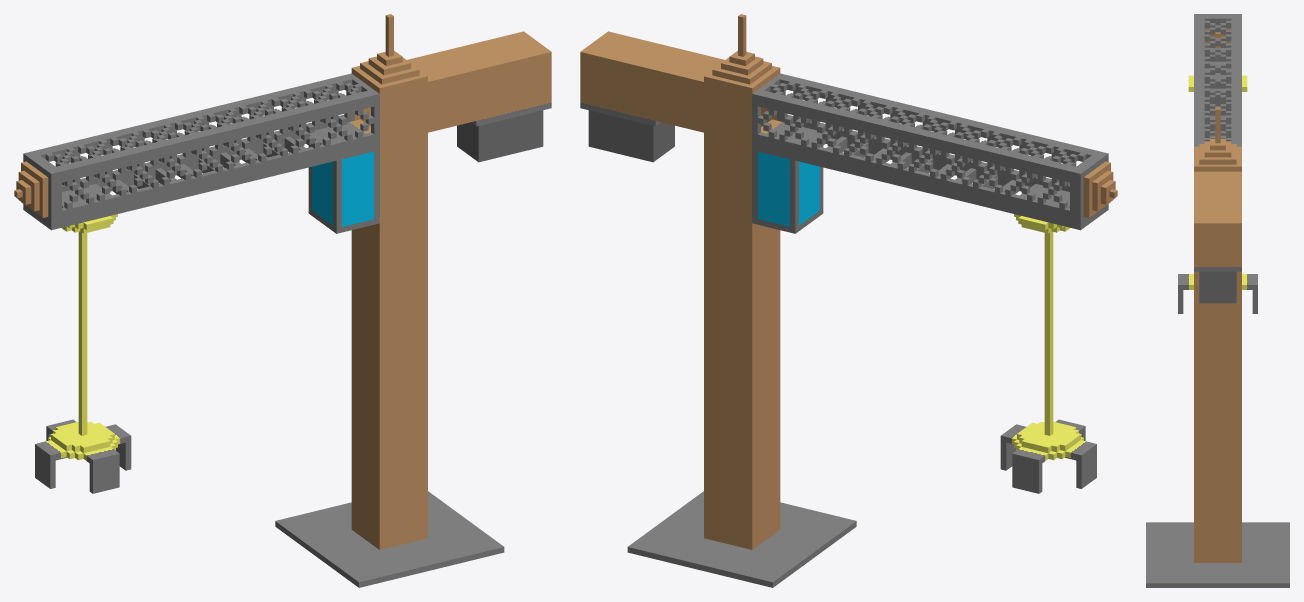
Rendered from Crane2.dae.
The picture shows the model from 3 angles, left to right: view 1: azimuth 30°, elevation 25°; view 2: azimuth 150°, elevation 25°; view 3: azimuth 270°, elevation 25°; orthographic projection. The views are drawn at different scales.
Parts seen in each view (by area): view 1: Crane2; view 2: Crane2; view 3: Crane2.
Part boxes in pixels (left/top/right/bottom): Crane2: left=14, top=14, right=551, bottom=587; Crane2: left=580, top=14, right=1117, bottom=587; Crane2: left=1146, top=14, right=1289, bottom=587.
Size of the model in its own units: 9.7 by 9.3 by 2.7.
1 material, 1 textured.
